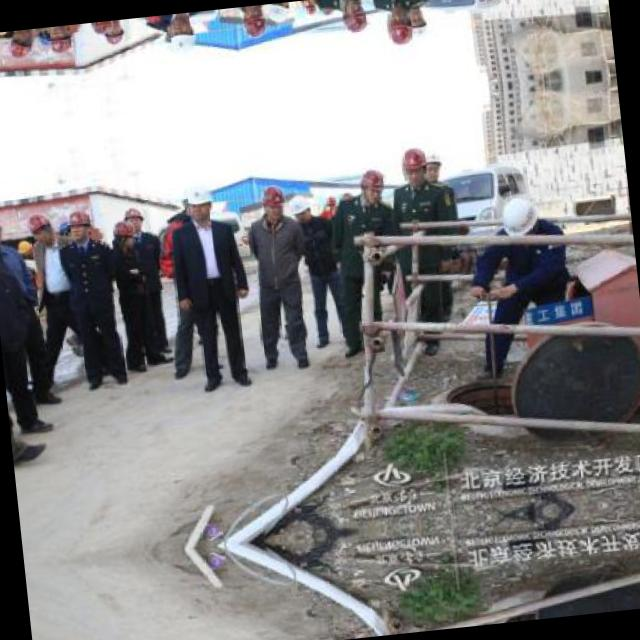helmet: (500, 190, 546, 249), (396, 141, 434, 184), (382, 7, 420, 50), (282, 189, 317, 229), (253, 180, 284, 222), (355, 163, 386, 203), (182, 183, 216, 219), (165, 18, 199, 54), (235, 4, 267, 42), (7, 28, 39, 65), (337, 0, 368, 38), (26, 206, 56, 244), (64, 205, 92, 244), (45, 24, 74, 59), (262, 1, 297, 29), (404, 1, 429, 40), (420, 148, 444, 186), (112, 218, 136, 250), (104, 19, 128, 47), (124, 205, 145, 232), (91, 20, 115, 36), (323, 191, 339, 214), (301, 0, 319, 20), (0, 208, 5, 245)
